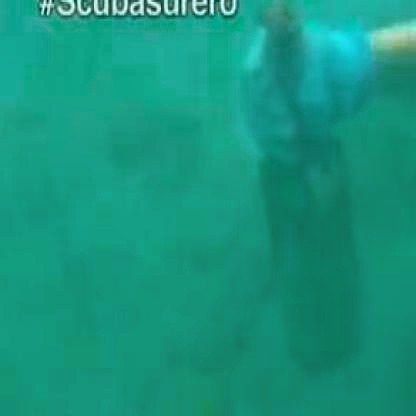gbottle: (244, 21, 373, 378)
